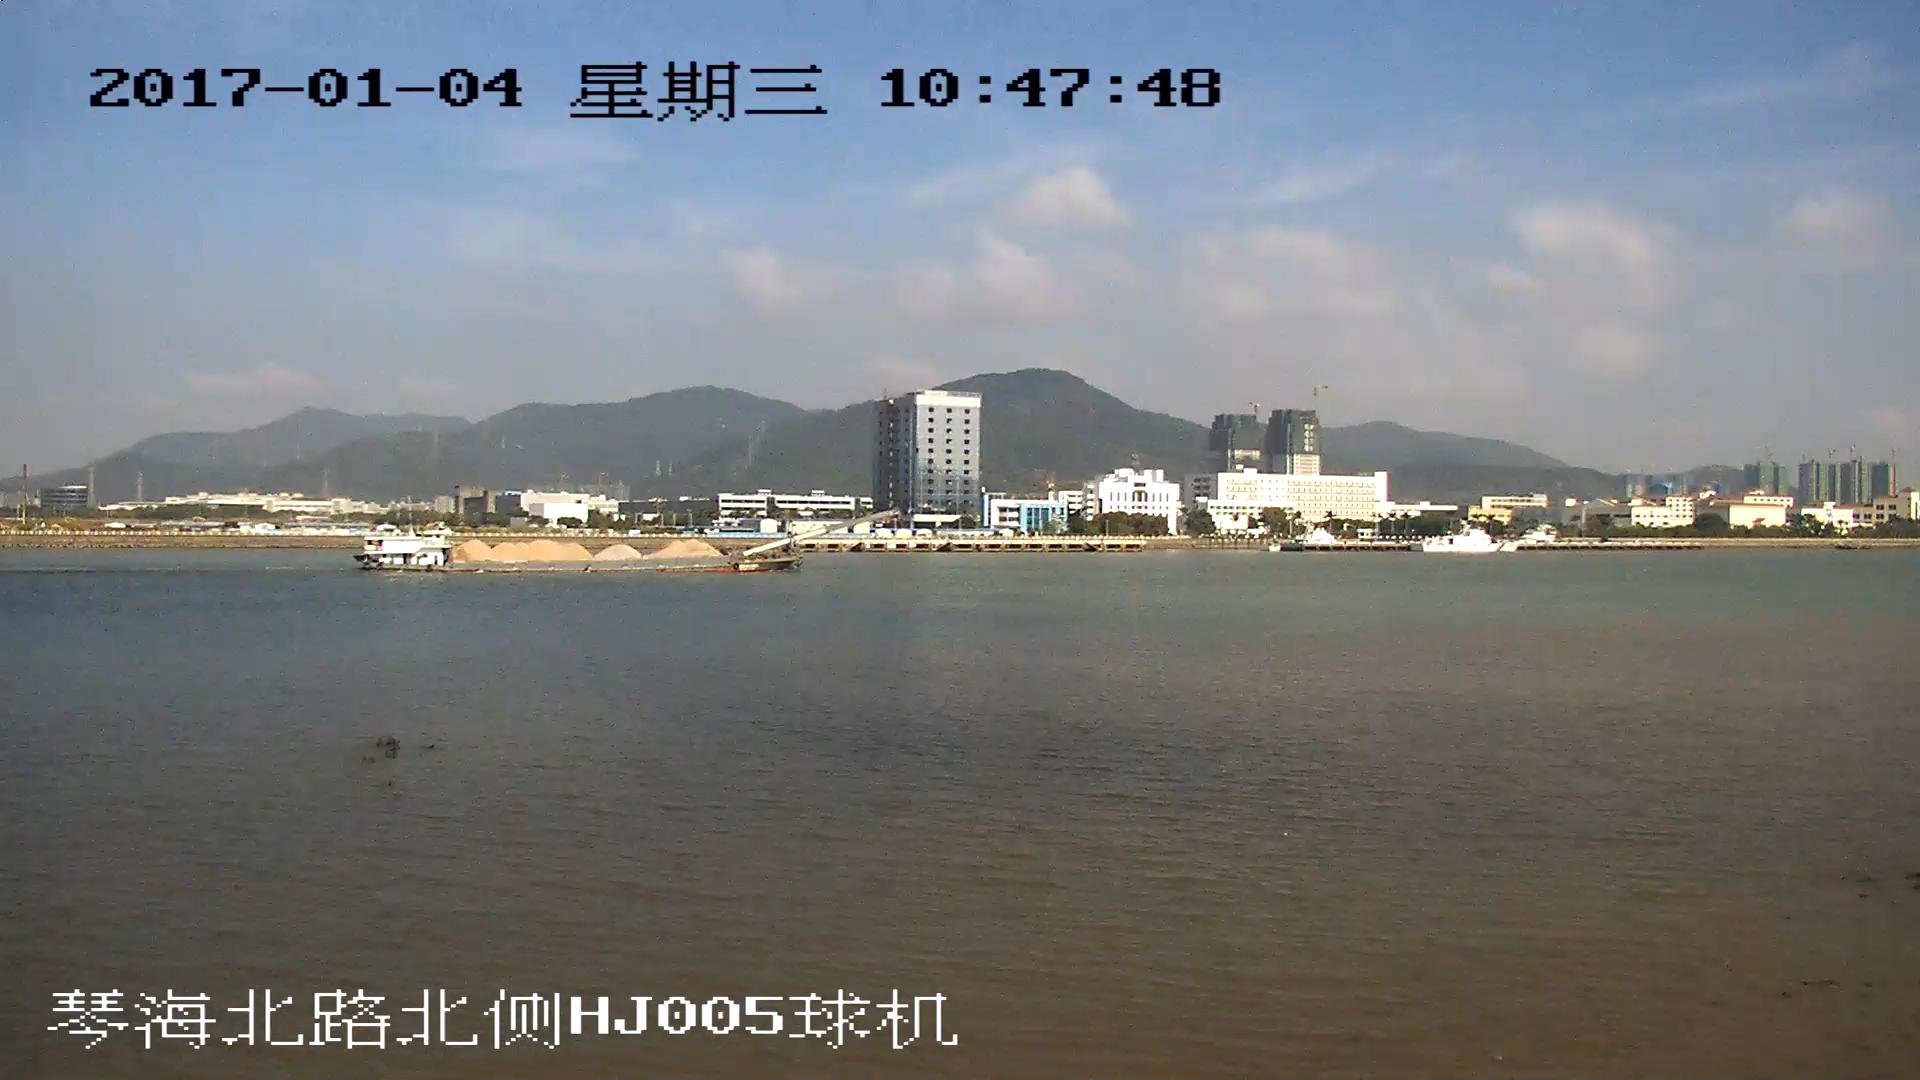ore carrier: (362, 509, 888, 571)
